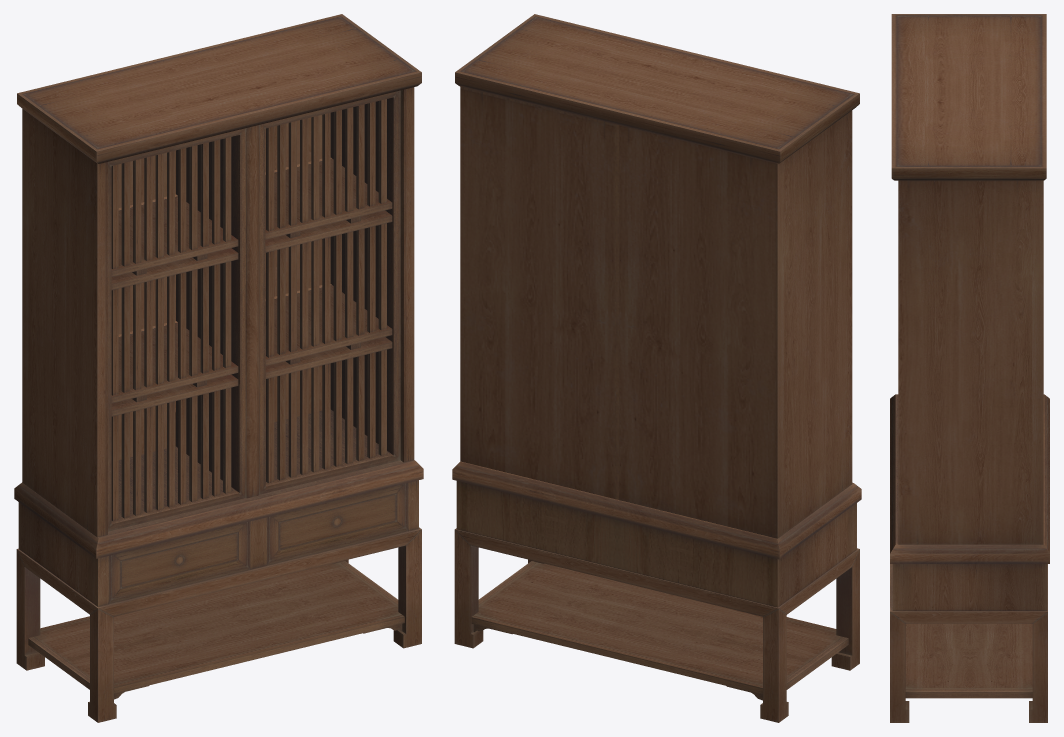
The model's file is Furniture_02_c.FBX.
The picture shows the model from 3 angles, left to right: view 1: azimuth 30°, elevation 25°; view 2: azimuth 150°, elevation 25°; view 3: azimuth 270°, elevation 25°; orthographic projection. The views are drawn at different scales.
Visible parts, largest first — view 1: Furniture_02_c; view 2: Furniture_02_c; view 3: Furniture_02_c.
Part boxes in pixels (x1=…): Furniture_02_c: x1=14, y1=14, x2=423, y2=722; Furniture_02_c: x1=452, y1=14, x2=861, y2=722; Furniture_02_c: x1=890, y1=14, x2=1049, y2=722.
Bounding box in the file's own units: 111 × 185 × 48.34.
